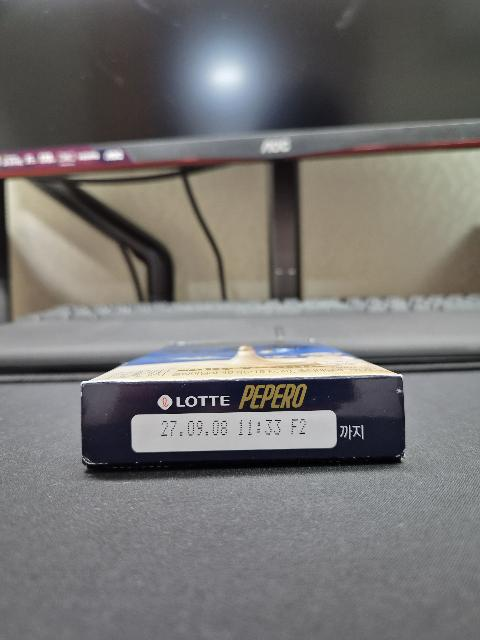pepero: (81, 341, 406, 470)
